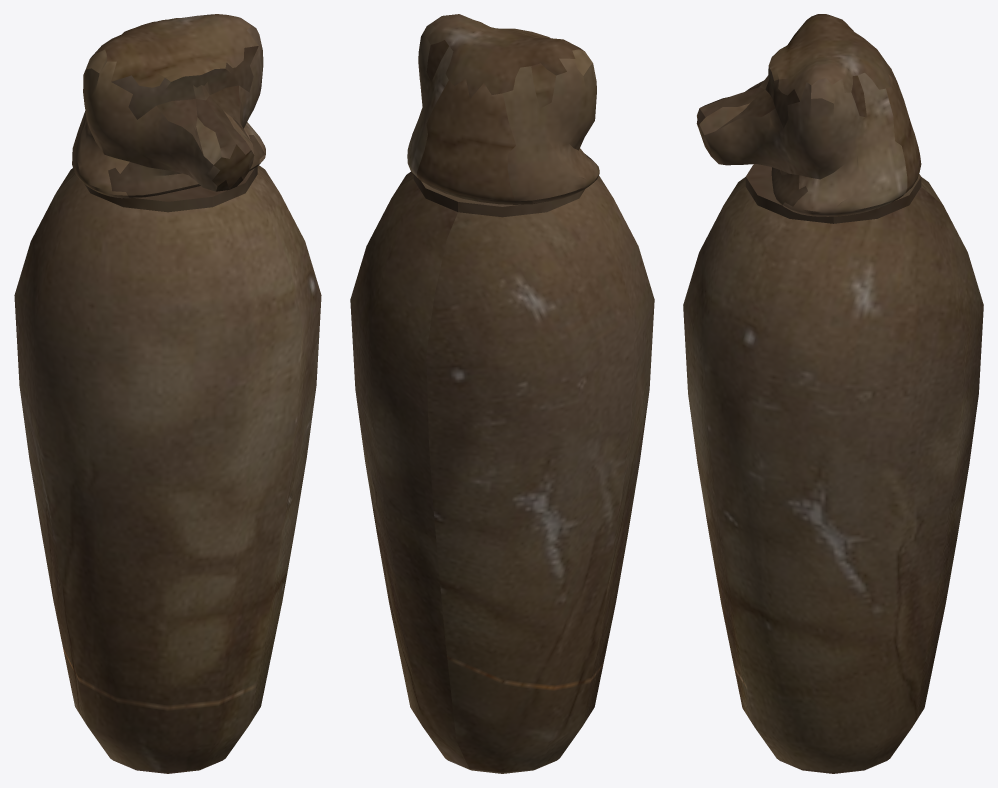
The model's file is Puzzle 6 Jar Hapi.fbx.
3 renders of one model, left to right at view 1: azimuth 30°, elevation 25°; view 2: azimuth 150°, elevation 25°; view 3: azimuth 270°, elevation 25°, orthographic. The views are drawn at different scales.
Parts seen in each view (by area): view 1: Puzzle 6 Jar Hapi; view 2: Puzzle 6 Jar Hapi; view 3: Puzzle 6 Jar Hapi.
Boxes of the visible parts, x1=… form: Puzzle 6 Jar Hapi: x1=14, y1=14, x2=321, y2=773; Puzzle 6 Jar Hapi: x1=350, y1=14, x2=654, y2=773; Puzzle 6 Jar Hapi: x1=683, y1=14, x2=983, y2=773.
Bounding box in the file's own units: 99.12 × 257 × 99.12.
